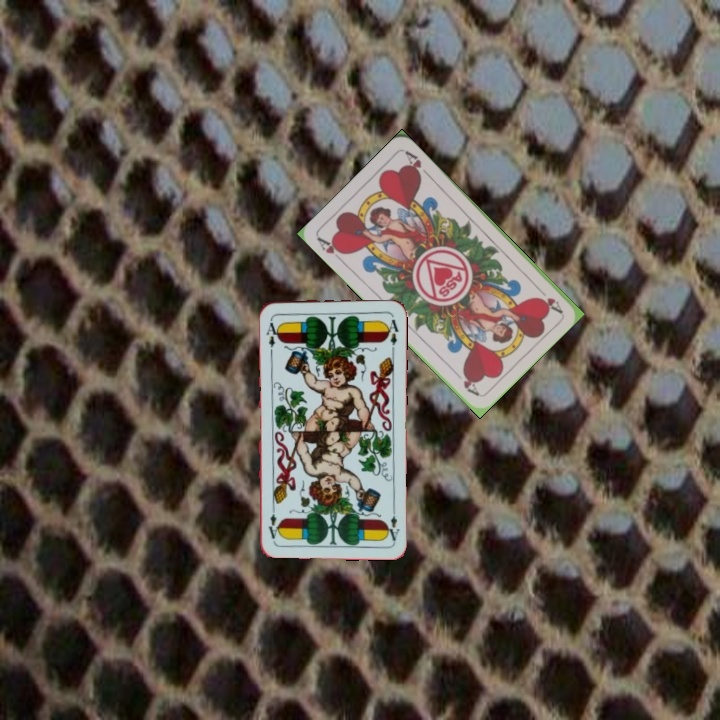EA: (262, 314, 282, 355), (382, 503, 402, 544)
HA: (313, 233, 349, 265), (532, 282, 565, 316)
